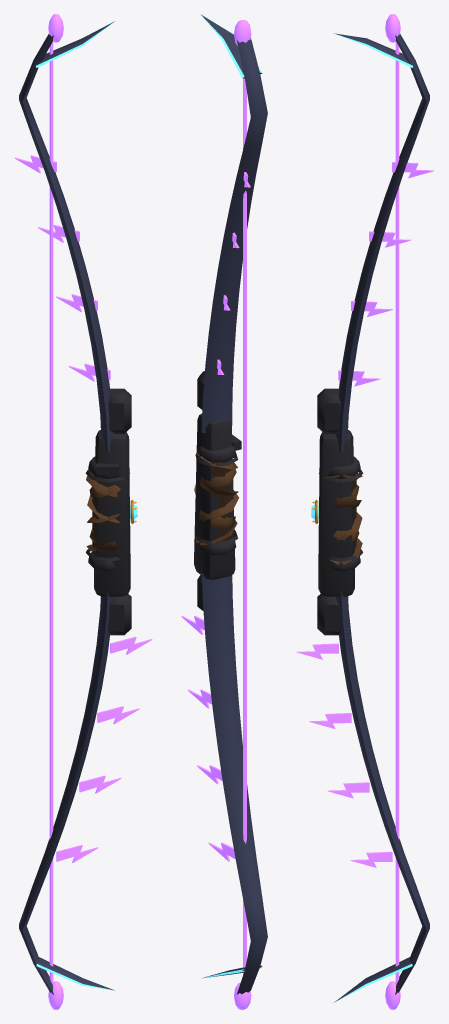
The model's file is gale_bow.glb.
3 renders of one model, left to right at view 1: azimuth 90°, elevation 25°; view 2: azimuth 210°, elevation 25°; view 3: azimuth 270°, elevation 25°, orthographic.
Parts seen in each view (by area): view 1: gale_bow; view 2: gale_bow; view 3: gale_bow.
Part boxes in pixels (x1=…): gale_bow: x1=14, y1=14, x2=152, y2=1009; gale_bow: x1=181, y1=14, x2=267, y2=1009; gale_bow: x1=296, y1=14, x2=434, y2=1009.
Bounding box in the file's own units: 0.0603 × 1.48 × 0.1865.
